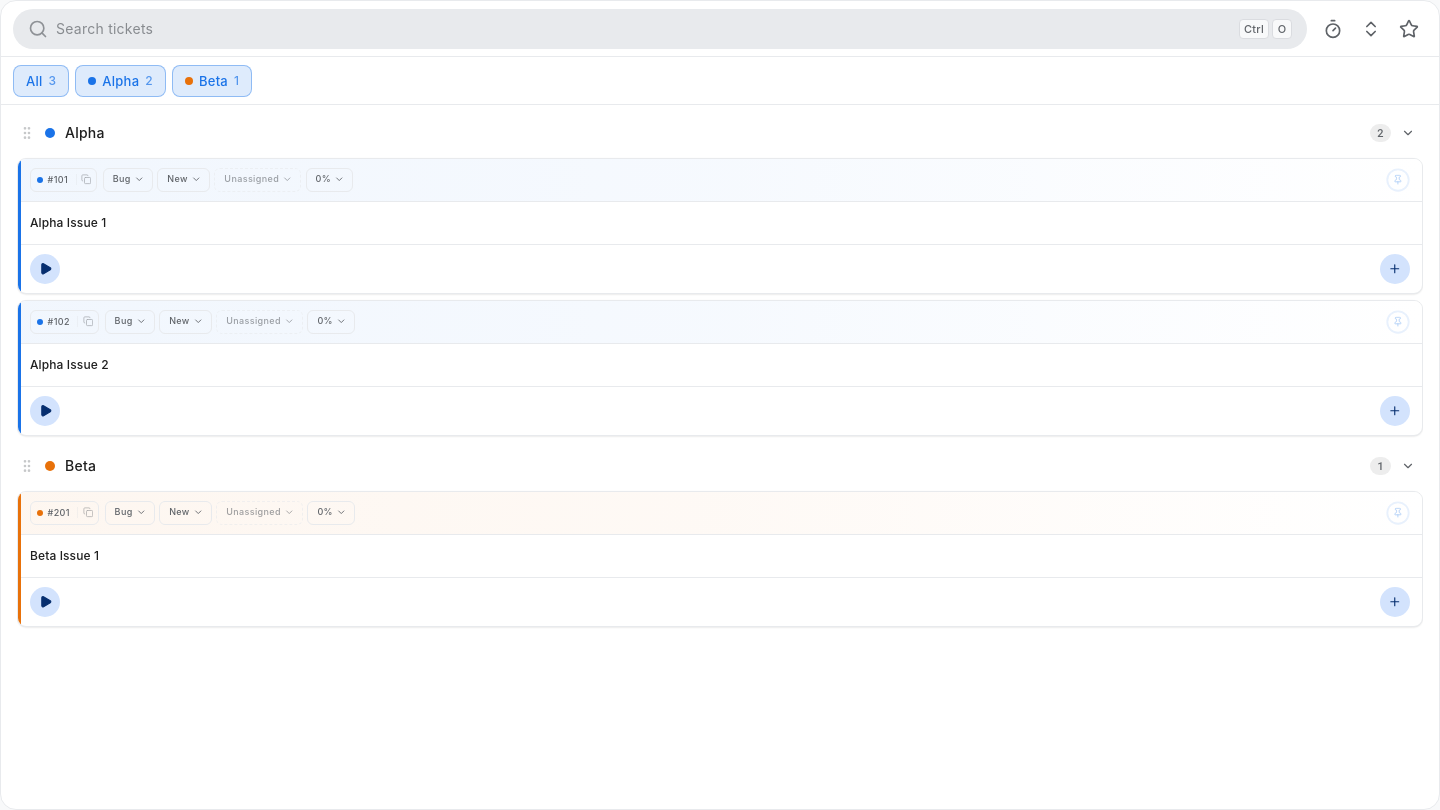
Test case: TicketList › filters issues by search query in toolbar
In the field with placeholder "Search tickets": (644, 29) [56,19,1231,39], type "Alpha Issue 1"
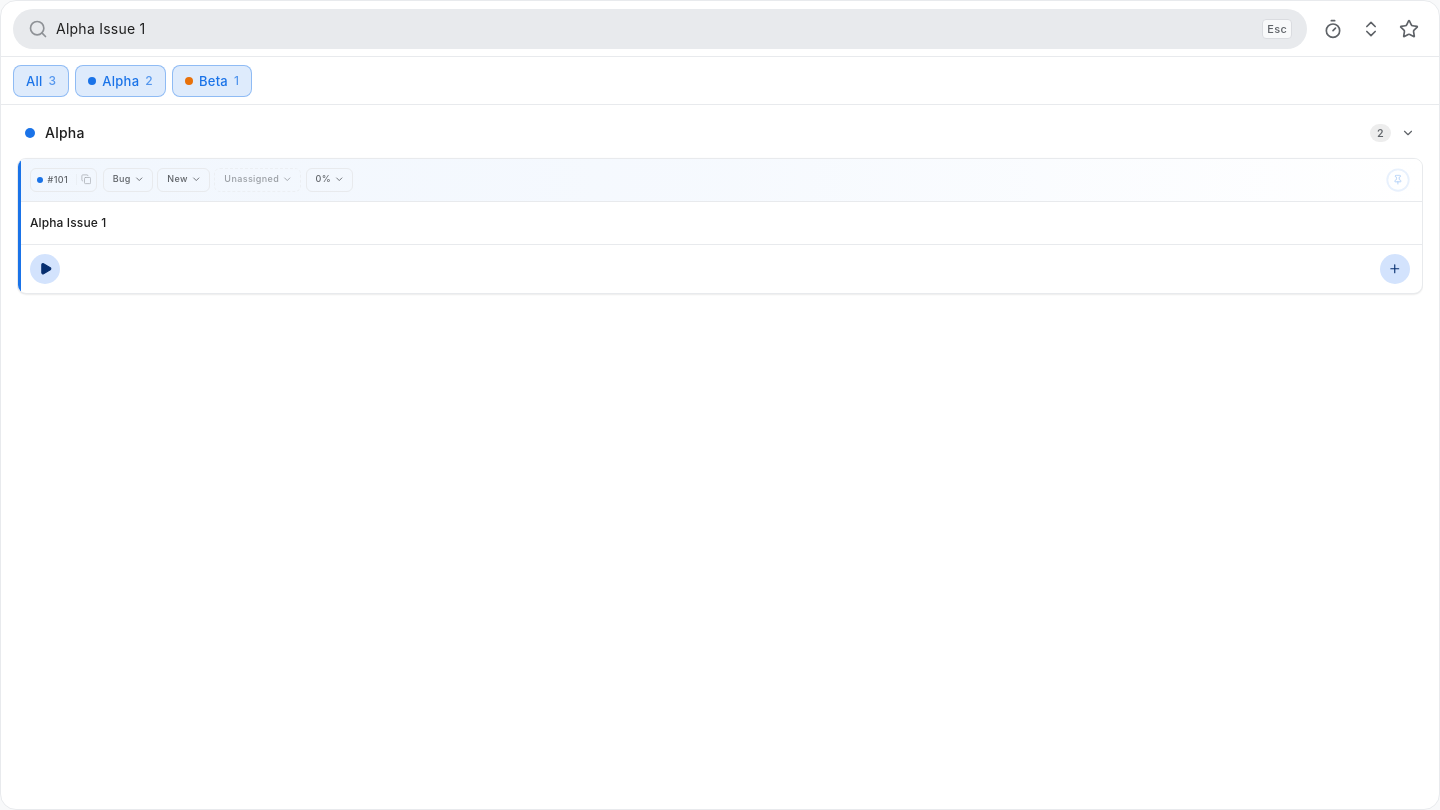
Expected: the text "Alpha Issue 1" is shown, [30,214,106,232]
Now the text "Beta Issue 1" is gone
